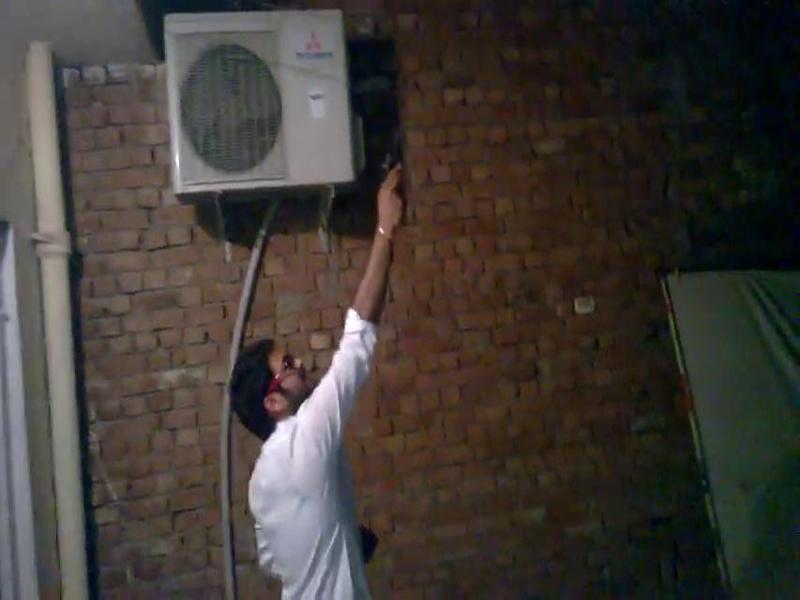Revolver: (376, 115, 427, 227)
